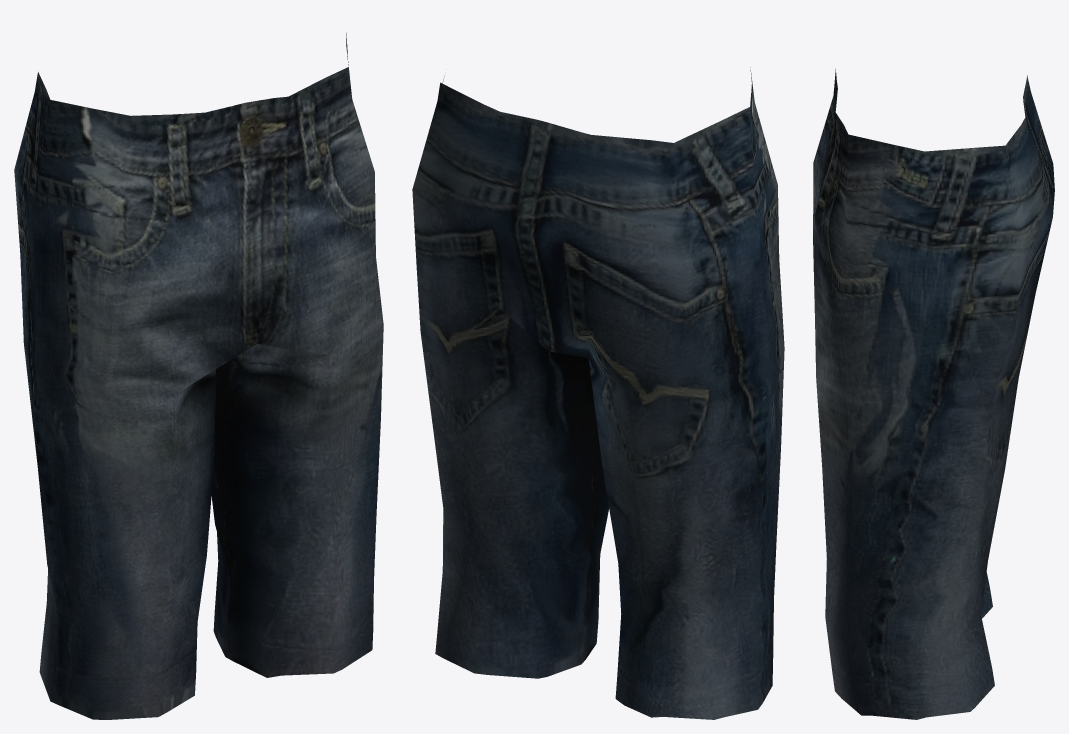
File: 001-shell.glb
The picture shows the model from 3 angles, left to right: view 1: azimuth 30°, elevation 25°; view 2: azimuth 150°, elevation 25°; view 3: azimuth 270°, elevation 25°; orthographic projection. The views are drawn at different scales.
Visible parts, largest first — view 1: geometry_0; view 2: geometry_0; view 3: geometry_0.
Boxes of the visible parts, x1=… form: geometry_0: x1=14, y1=33, x2=383, y2=719; geometry_0: x1=412, y1=67, x2=784, y2=719; geometry_0: x1=813, y1=69, x2=1054, y2=719.
Bounding box in the file's own units: 0.3608 × 0.6268 × 0.2393.
Materials: 1 (1 with a texture image).
